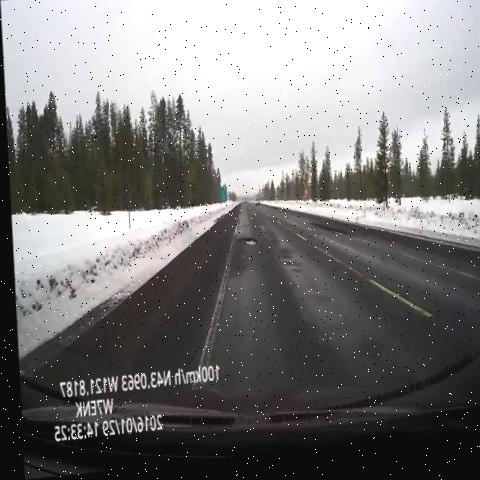pothole: (299, 217, 351, 258), (230, 230, 259, 263)
